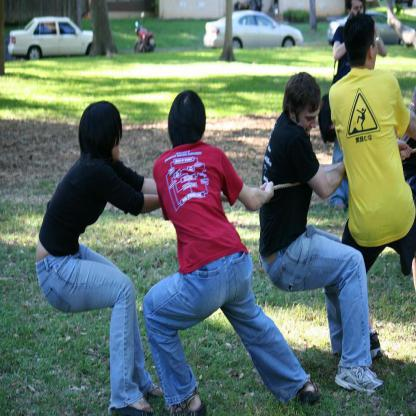Car: (203, 10, 304, 49), (8, 17, 93, 60), (328, 11, 414, 48)
